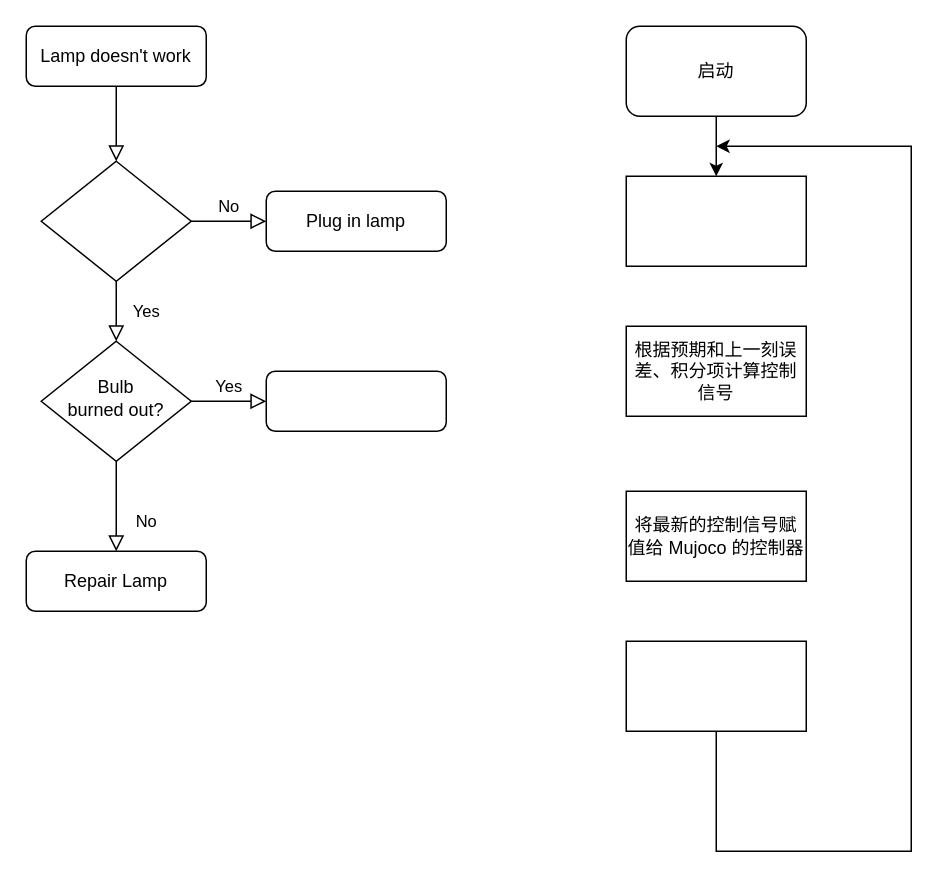
Image size: 950x890. Some labels were removed from this diagram. Each missing label, with the centre of its shape:
"Lamp plugged in?" goes at point (115, 220).
"Replace Bulb" goes at point (355, 400).
"更新 数据、显示" goes at point (715, 685).
"获取时间和位置" goes at point (715, 220).
